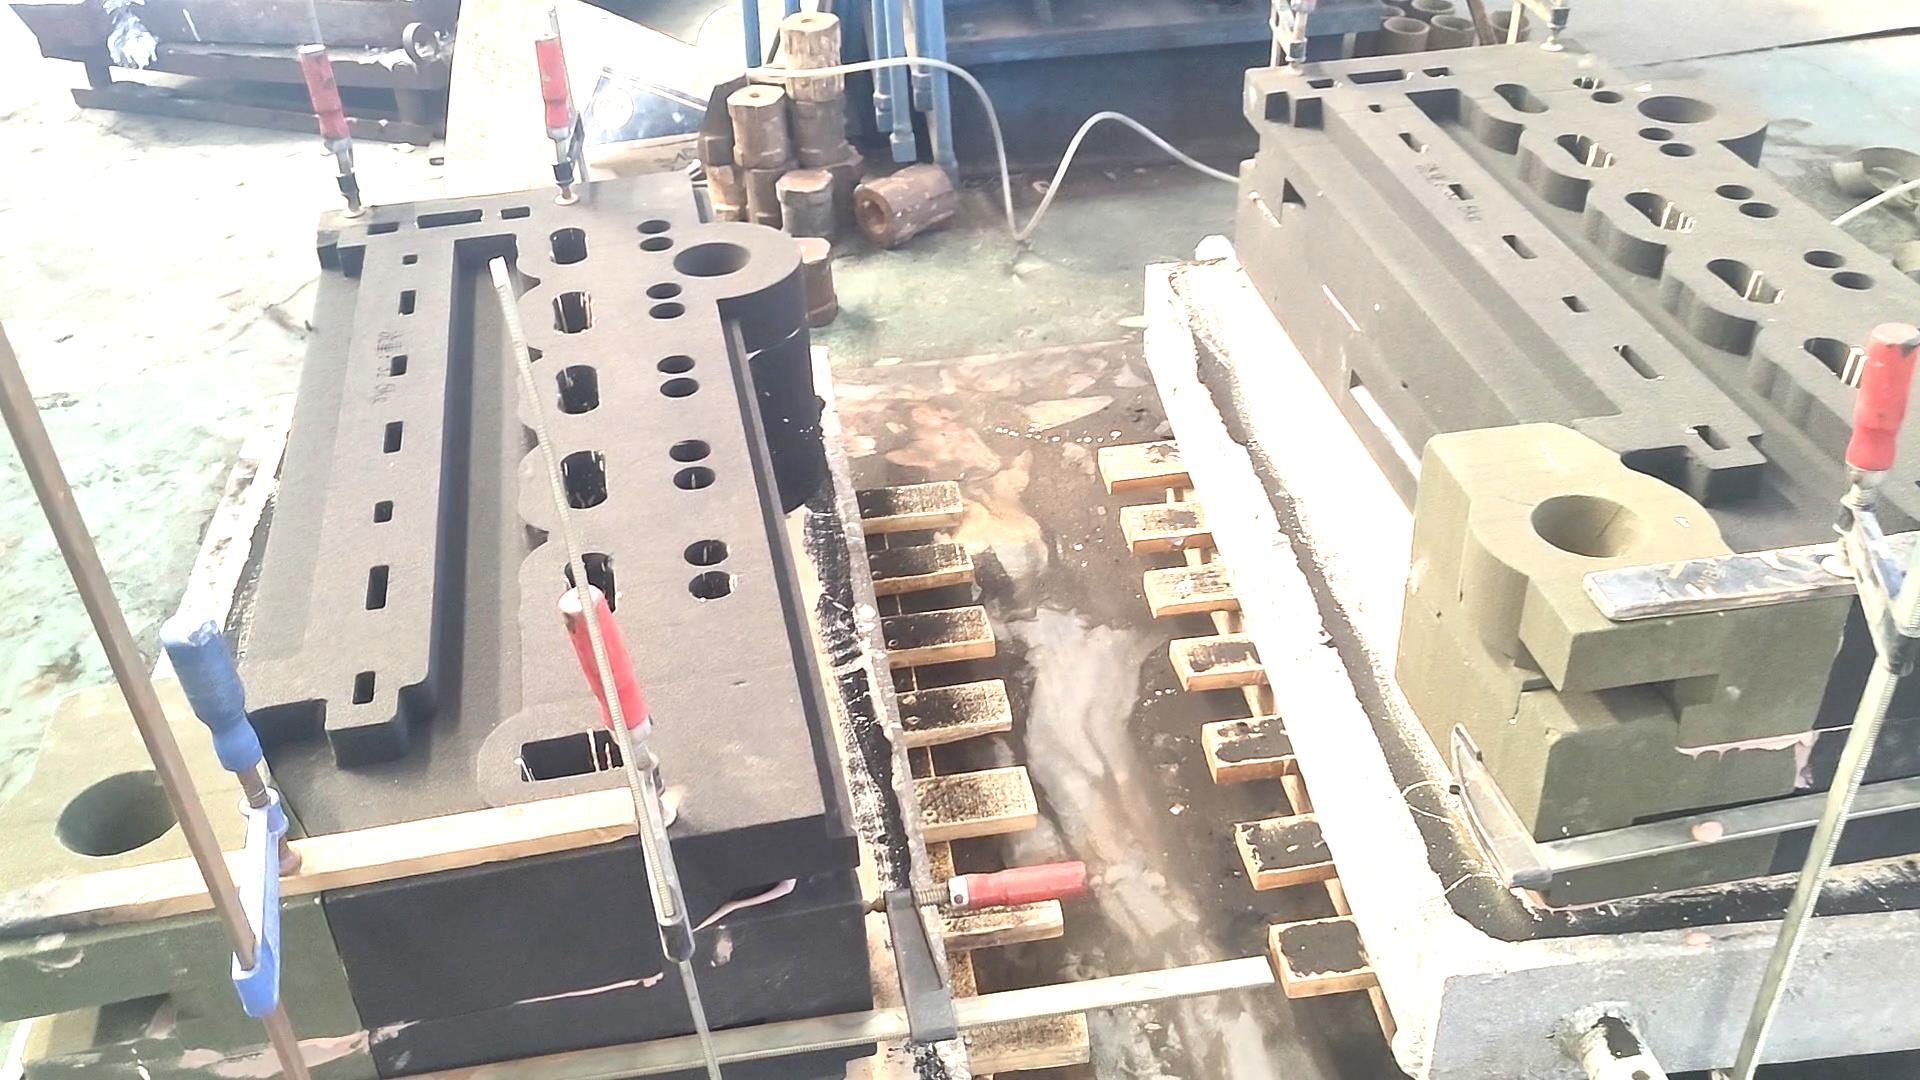pouring hole: (55, 769, 189, 858), (1530, 495, 1647, 558), (674, 243, 752, 277), (1636, 96, 1718, 124), (1381, 16, 1429, 36), (1487, 11, 1532, 32), (1433, 15, 1478, 32), (1361, 4, 1404, 18), (1412, 1, 1458, 15), (1386, 1, 1410, 4)
